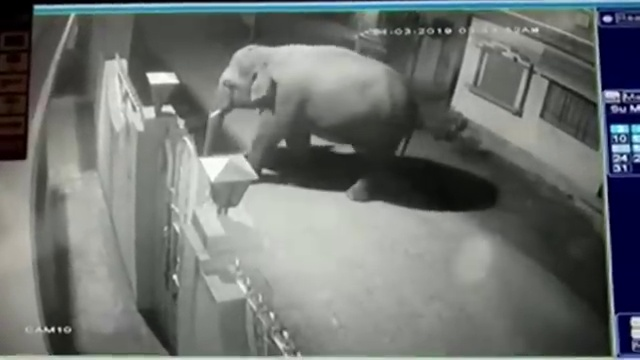Elephant: (203, 44, 415, 203)
